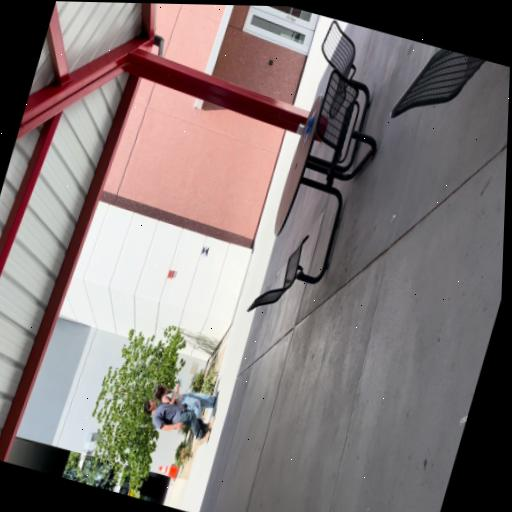target9: (201, 245, 210, 257)
